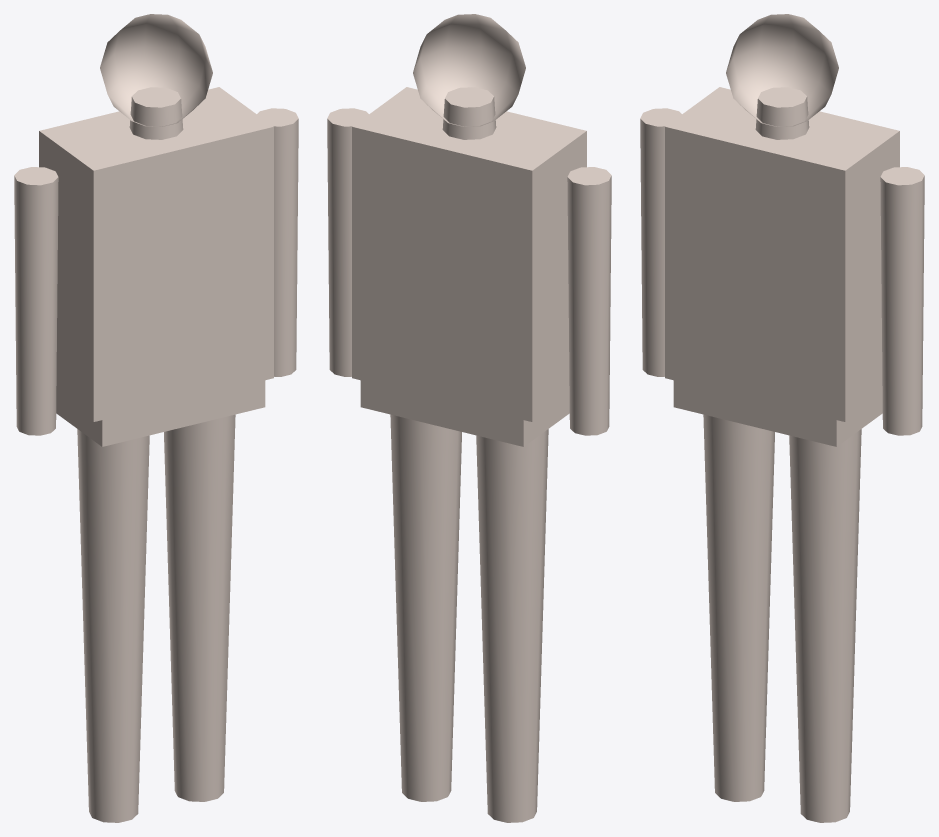
File: body-a.glb
The picture shows the model from 3 angles, left to right: view 1: azimuth 30°, elevation 25°; view 2: azimuth 150°, elevation 25°; view 3: azimuth 330°, elevation 25°; orthographic projection.
Parts seen in each view (by area): view 1: body-a; view 2: body-a; view 3: body-a.
Boxes of the visible parts, x1,y1,x2,y2 form: body-a: (14,14,298,822); body-a: (327,14,611,822); body-a: (640,14,924,822).
Size of the model in its own units: 0.65 by 1.74 by 0.22.
